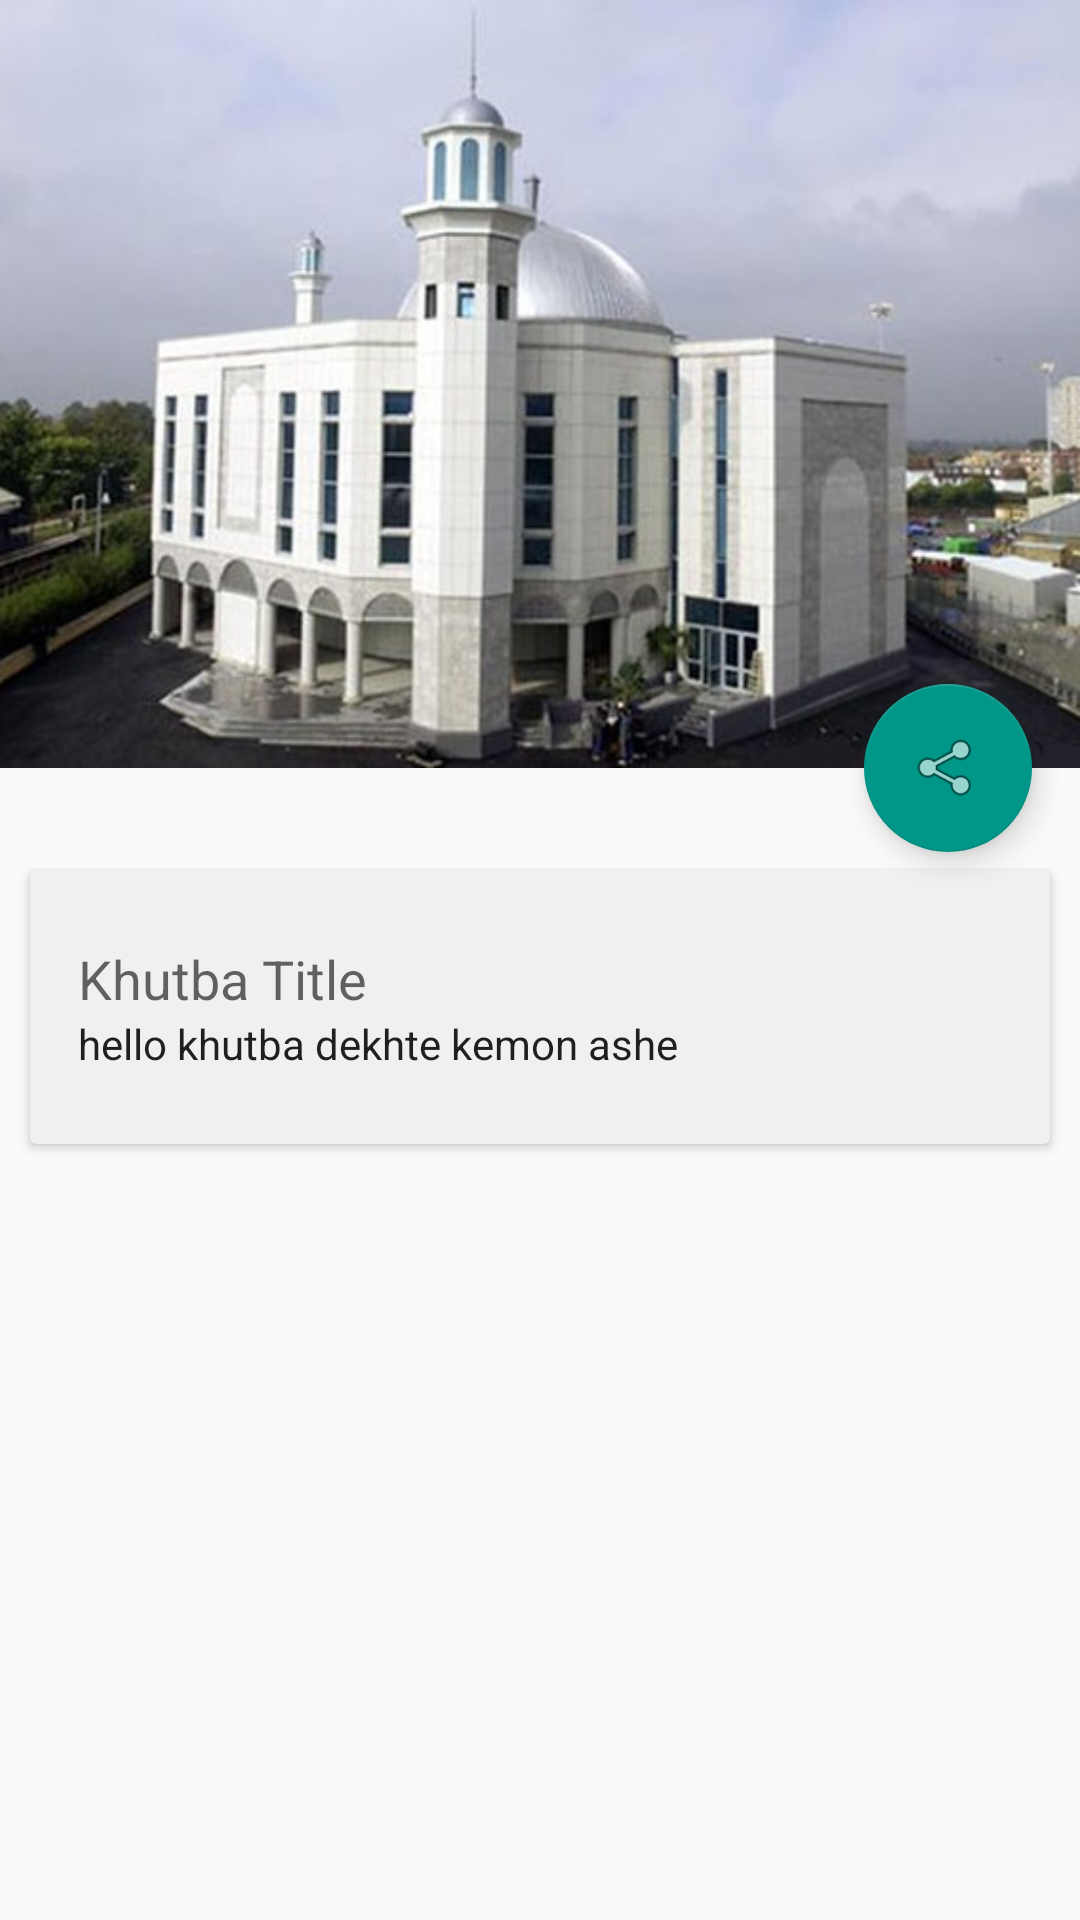

Icons on this 1080px×1920px Android screen, each with the point to tap as point (x, y):
share: point (948, 768)
